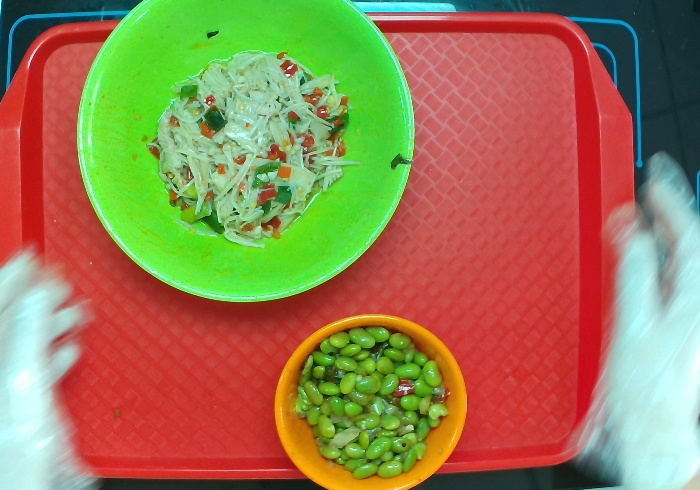YKMZ-Ju_Se_Yuan_Wan: (275, 312, 466, 490)
YKMZ-Lv_Se_Tang_Wan: (76, 1, 415, 304)
